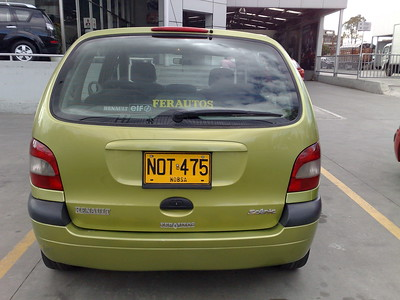placa_carro: (139, 146, 217, 194)
